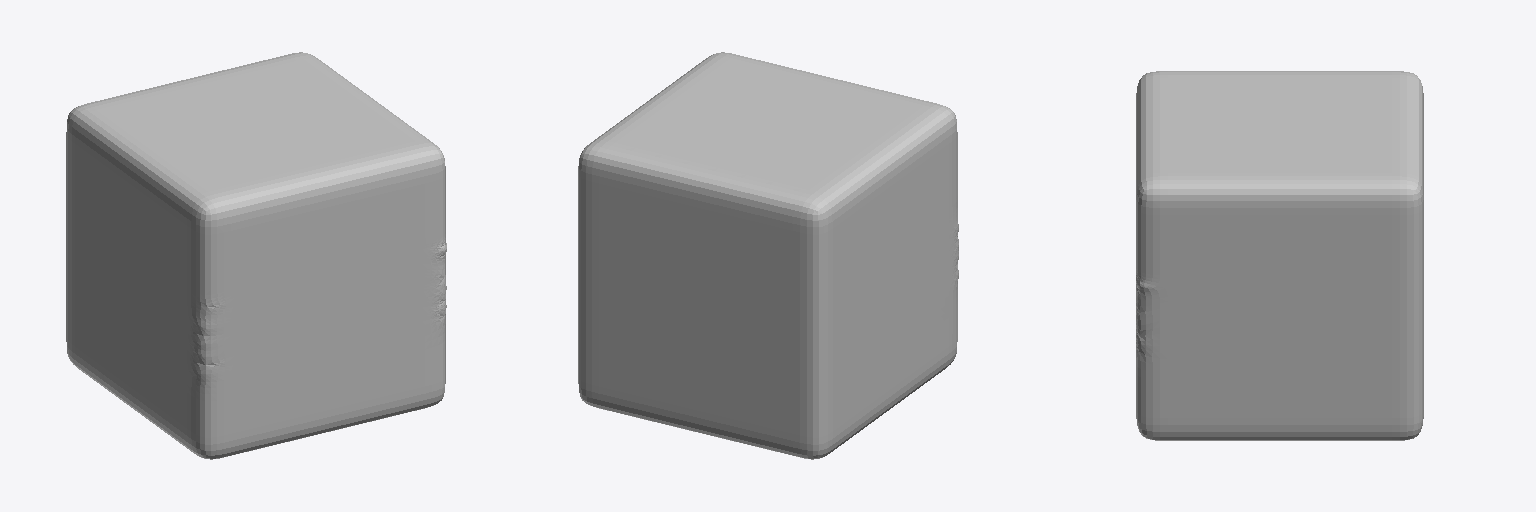
The model's file is Section2_Part1_IsolatedTriangles_ExportTest_SubDQuality2.obj.
3 views of the same model, side by side, from view 1: azimuth 30°, elevation 25°; view 2: azimuth 150°, elevation 25°; view 3: azimuth 270°, elevation 25° (orthographic).
Visible parts, largest first — view 1: Cube_Cube.001; view 2: Cube_Cube.001; view 3: Cube_Cube.001.
Boxes of the visible parts, x1,y1,x2,y2 form: Cube_Cube.001: [66, 52, 446, 459]; Cube_Cube.001: [578, 52, 958, 459]; Cube_Cube.001: [1136, 71, 1423, 440].
Size of the model in its own units: 2.11 by 2.11 by 2.11.